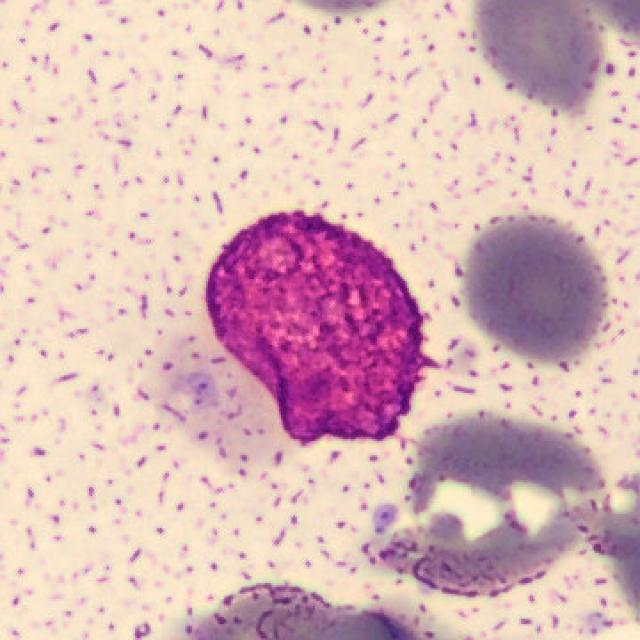Restos celulares: (203, 213, 428, 446)
